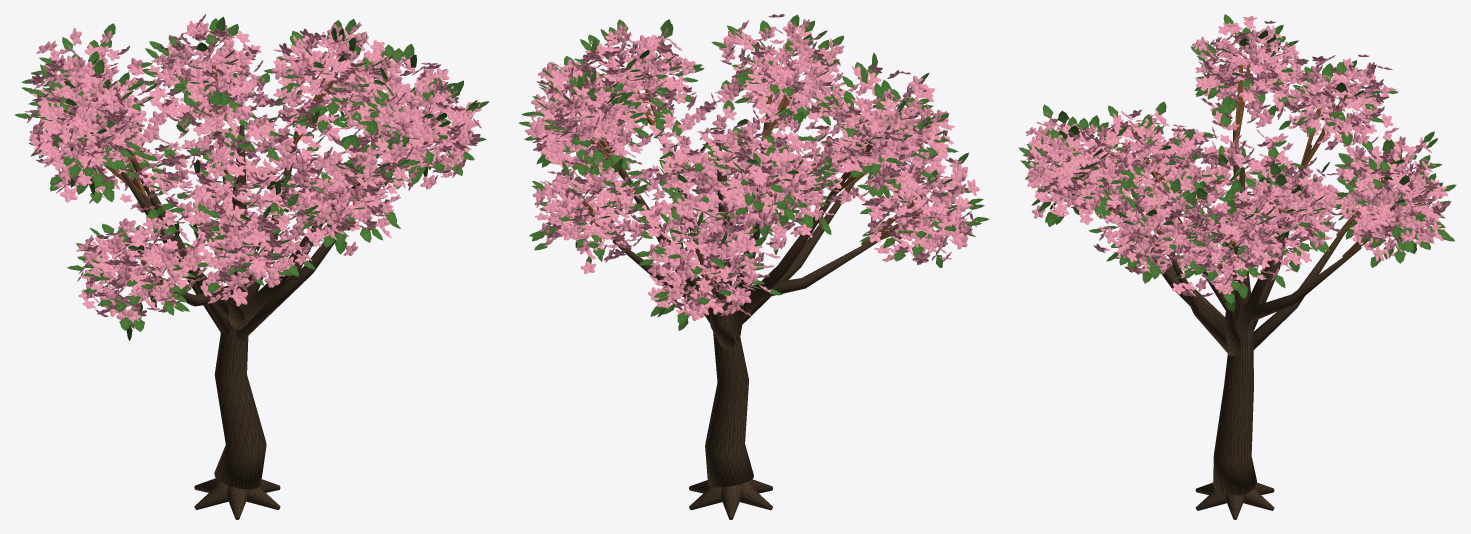
Rendered from blossoming_tree.glb.
3 renders of one model, left to right at view 1: azimuth 30°, elevation 25°; view 2: azimuth 150°, elevation 25°; view 3: azimuth 270°, elevation 25°, orthographic. The views are drawn at different scales.
Parts seen in each view (by area): view 1: blossoming_tree_Foliage.001, blossoming_tree_Branches.001; view 2: blossoming_tree_Foliage.001, blossoming_tree_Branches.001; view 3: blossoming_tree_Foliage.001, blossoming_tree_Branches.001.
Boxes of the visible parts, <box> form: blossoming_tree_Foliage.001: <box>14,14,489,340</box>; blossoming_tree_Branches.001: <box>82,65,427,519</box>; blossoming_tree_Foliage.001: <box>518,14,989,330</box>; blossoming_tree_Branches.001: <box>582,61,922,519</box>; blossoming_tree_Foliage.001: <box>1018,14,1456,311</box>; blossoming_tree_Branches.001: <box>1069,62,1398,519</box>.
Bounding box in the file's own units: 5.59 × 5.86 × 5.56.
Materials: 2 (2 with a texture image).
